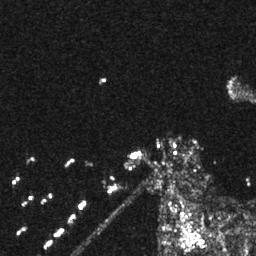ship: (127, 150, 145, 160), (107, 182, 118, 195), (51, 227, 65, 237), (66, 213, 77, 224), (42, 239, 53, 250), (16, 226, 28, 236), (65, 157, 75, 167), (77, 199, 87, 209), (11, 176, 21, 184)
